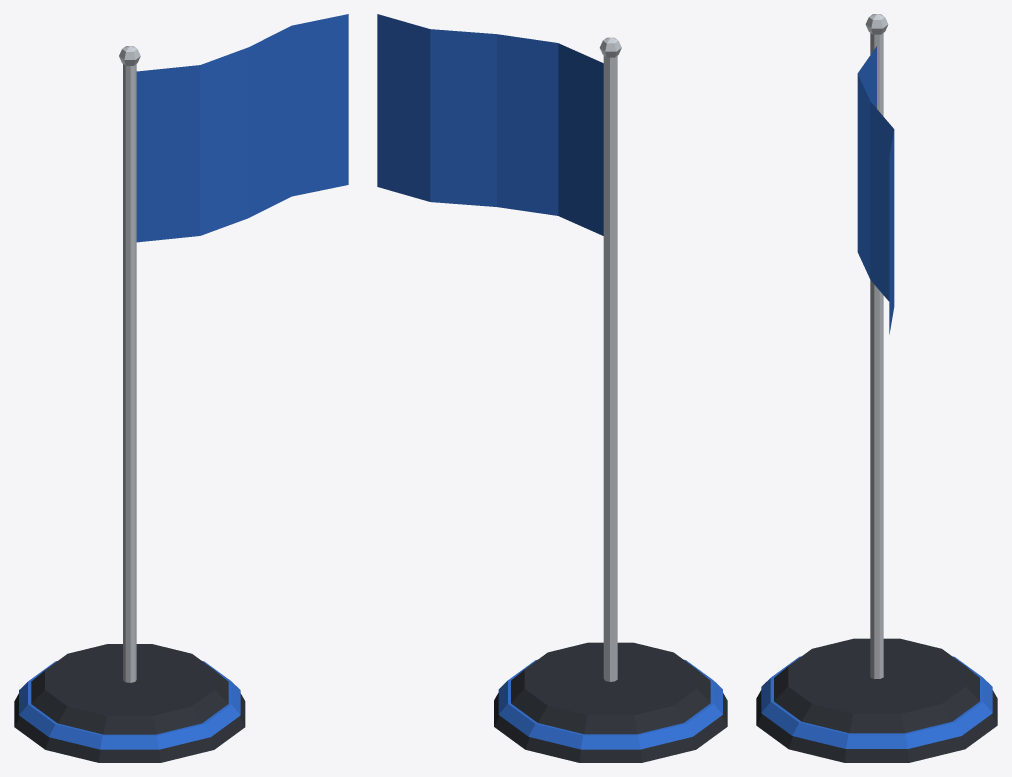
Rendered from flag_blue.glb.
3 renders of one model, left to right at view 1: azimuth 30°, elevation 25°; view 2: azimuth 150°, elevation 25°; view 3: azimuth 270°, elevation 25°, orthographic. The views are drawn at different scales.
Parts seen in each view (by area): view 1: flag_blue; view 2: flag_blue; view 3: flag_blue.
Part boxes in pixels (x1=…): flag_blue: x1=14, y1=14, x2=348, y2=762; flag_blue: x1=377, y1=14, x2=727, y2=762; flag_blue: x1=756, y1=14, x2=997, y2=762.
Bounding box in the file's own units: 1.19 × 2.35 × 0.7341.
